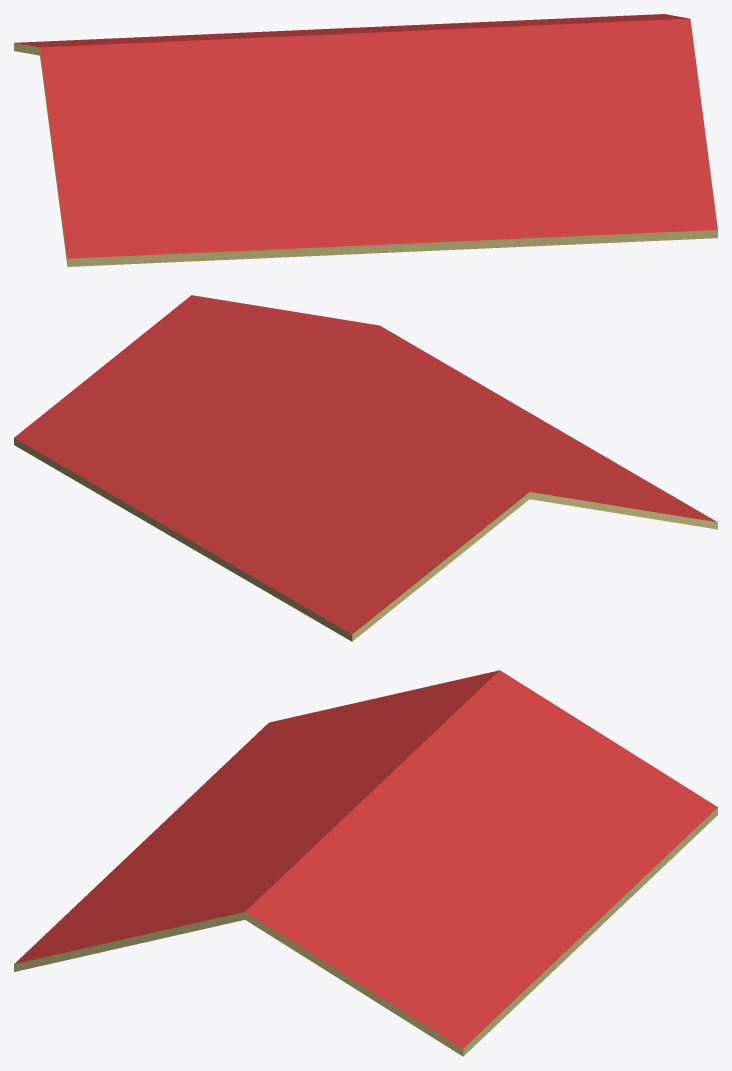
3 renders of one model, top to bottom at view 1: azimuth 30°, elevation 25°; view 2: azimuth 150°, elevation 25°; view 3: azimuth 270°, elevation 25°, orthographic. The views are drawn at different scales.
Bounding box in the file's own units: 8.85 × 8.07 × 1.31.
